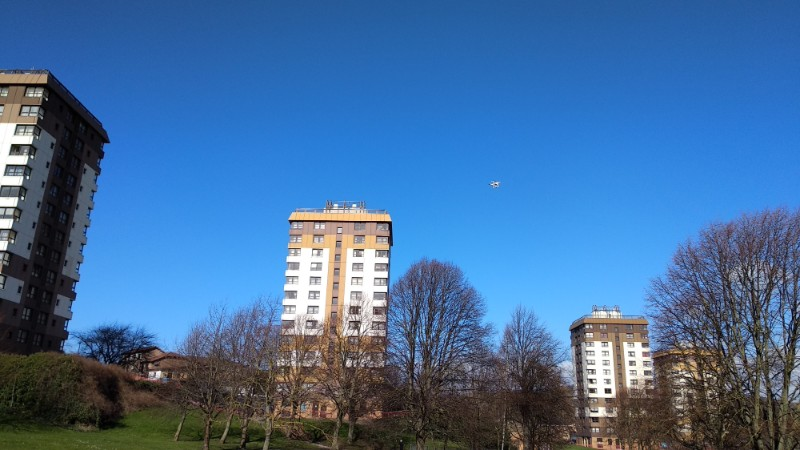drone: (490, 178, 502, 190)
